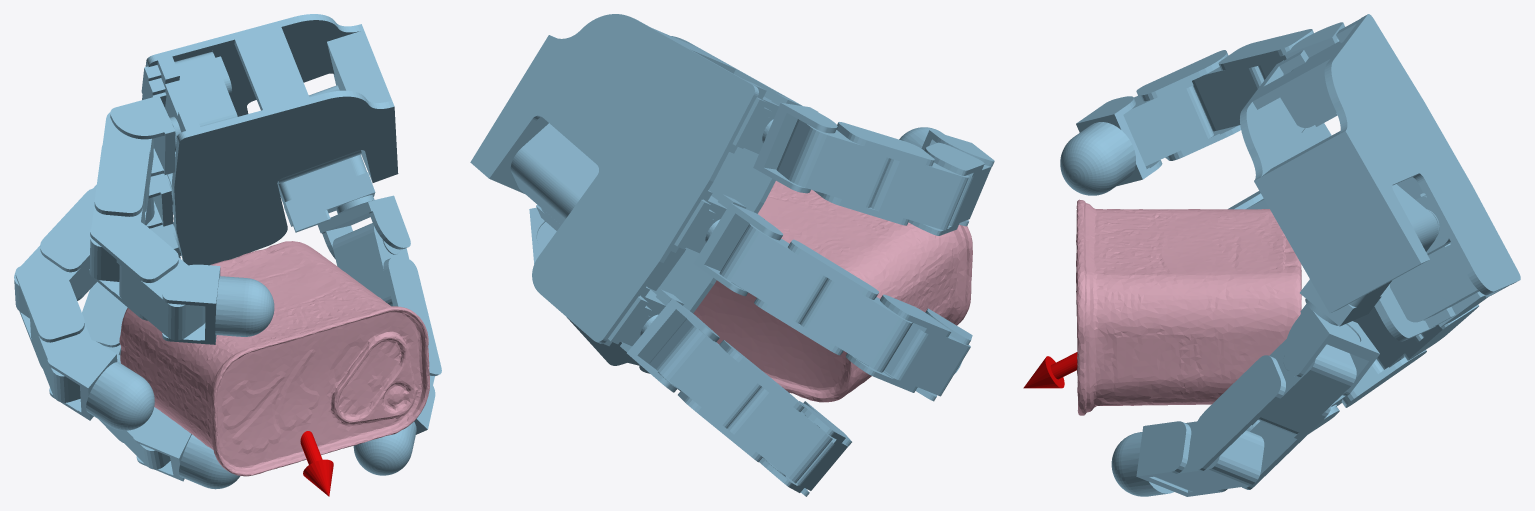
3 renders of one model, left to right at view 1: azimuth 30°, elevation 25°; view 2: azimuth 150°, elevation 25°; view 3: azimuth 270°, elevation 25°, orthographic. The views are drawn at different scales.
Parts seen in each view (by area): view 1: world, potted_meat_can.stl; view 2: world, potted_meat_can.stl; view 3: world, potted_meat_can.stl.
Boxes of the visible parts, left/top/right/bottom form: world: left=14, top=14, right=441, bottom=496; potted_meat_can.stl: left=119, top=241, right=429, bottom=476; world: left=470, top=14, right=994, bottom=496; potted_meat_can.stl: left=693, top=181, right=972, bottom=402; world: left=1023, top=14, right=1520, bottom=496; potted_meat_can.stl: left=1076, top=199, right=1301, bottom=415.
Bounding box in the file's own units: 0.1826 × 0.1872 × 0.184.
